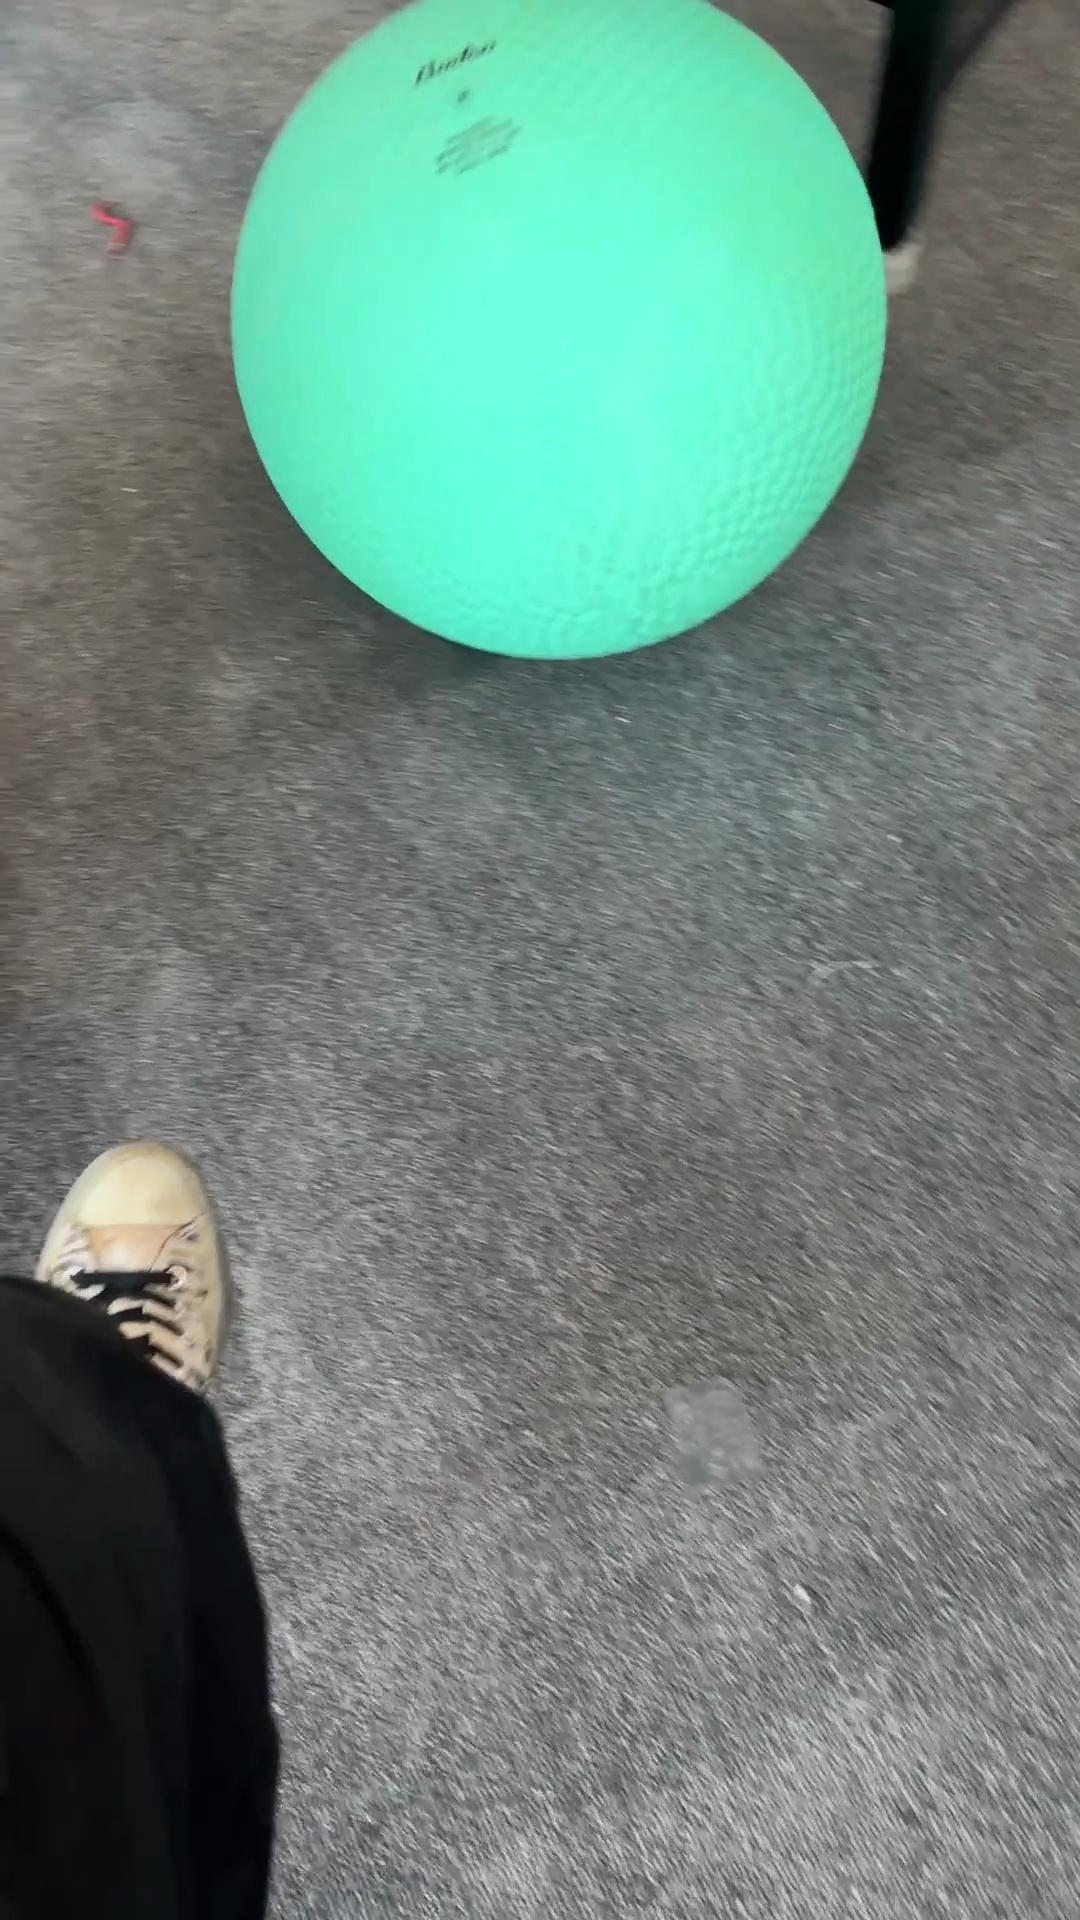ALGAE: (225, 1, 890, 662)
